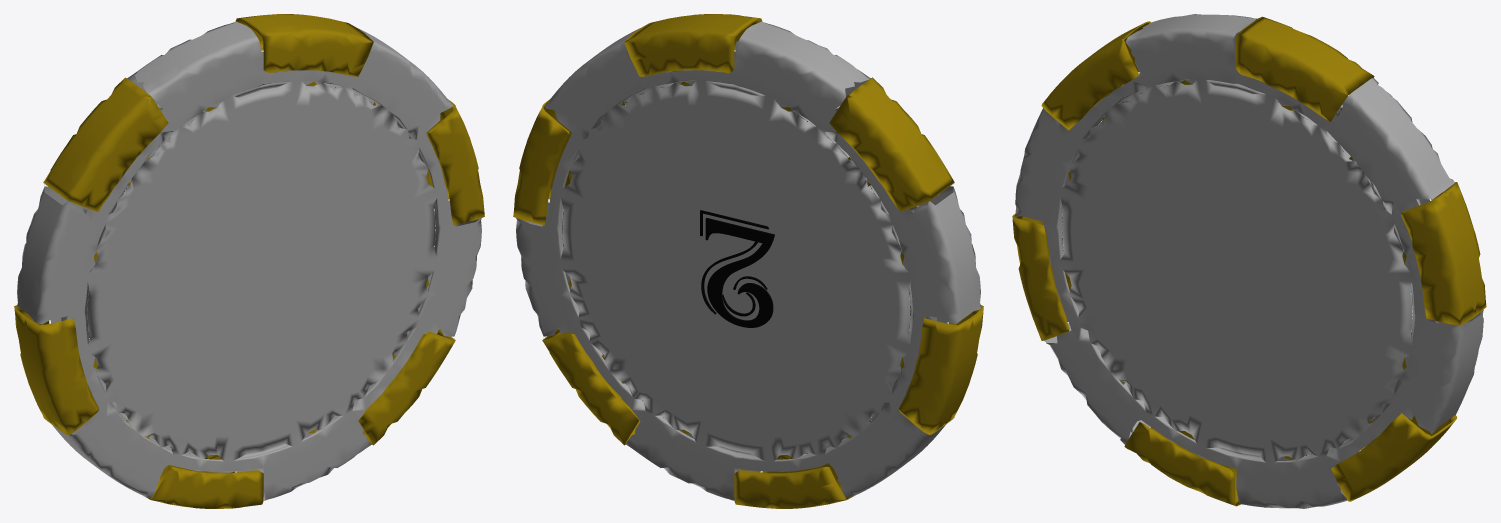
Rendered from Chip-2.obj.
3 views of the same model, side by side, from view 1: azimuth 30°, elevation 25°; view 2: azimuth 150°, elevation 25°; view 3: azimuth 330°, elevation 25° (orthographic).
Parts seen in each view (by area): view 1: Chip-2; view 2: Chip-2; view 3: Chip-2.
Boxes of the visible parts, x1,y1,x2,y2 form: Chip-2: (14,14,484,508); Chip-2: (513,14,983,508); Chip-2: (1012,14,1486,508).
Size of the model in its own units: 0.9996 by 1 by 0.1098.
